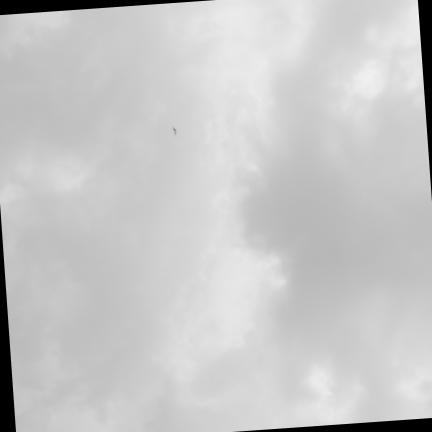Shahed: (172, 126, 175, 136)
